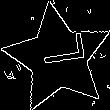L_W: (30, 39, 85, 77)
